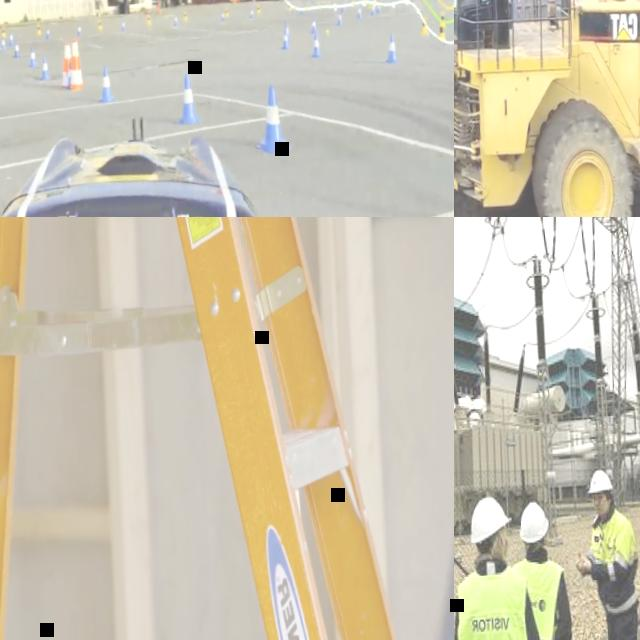Hardhat: (468, 492, 513, 547), (519, 500, 550, 549), (587, 467, 613, 493)
NO-Mask: (597, 501, 614, 518)
Person: (454, 490, 548, 640), (572, 462, 640, 640), (506, 494, 577, 640), (422, 378, 454, 640)
Safety Cone: (256, 83, 293, 155), (177, 72, 202, 127), (68, 40, 85, 92), (59, 41, 74, 93), (99, 65, 116, 107), (384, 35, 401, 68), (64, 59, 76, 92), (41, 55, 52, 82), (310, 35, 322, 59), (418, 16, 430, 39), (29, 45, 39, 69), (281, 31, 291, 54), (437, 22, 446, 45), (283, 22, 292, 43), (14, 39, 22, 60), (310, 18, 318, 38), (439, 11, 447, 30), (0, 37, 7, 52), (8, 32, 15, 47), (120, 20, 127, 34), (0, 24, 7, 37), (46, 28, 52, 42), (37, 24, 43, 37), (356, 8, 362, 20), (377, 4, 383, 16), (337, 14, 342, 28), (370, 6, 376, 17), (98, 18, 103, 31), (174, 16, 179, 28), (147, 15, 152, 27), (78, 26, 83, 37), (183, 13, 188, 24), (225, 9, 230, 19), (257, 6, 261, 18), (221, 12, 225, 23), (250, 9, 254, 19)
Safety Vest: (454, 563, 539, 640), (590, 510, 640, 616), (517, 556, 570, 640)
vehicle: (0, 96, 454, 217), (454, 0, 640, 217), (454, 0, 568, 34)
